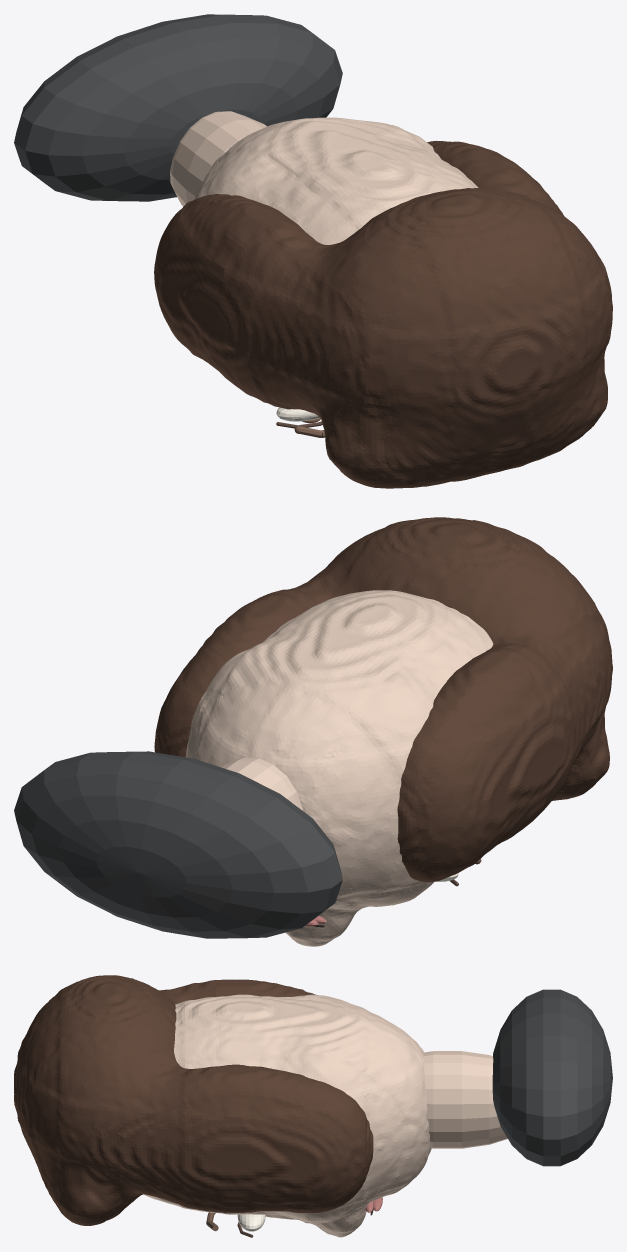
Rendered from sandra_dee_reconstruction_v3.glb.
3 renders of one model, top to bottom at view 1: azimuth 30°, elevation 25°; view 2: azimuth 150°, elevation 25°; view 3: azimuth 270°, elevation 25°, orthographic. The views are drawn at different scales.
Parts seen in each view (by area): view 1: Unified swept-back chestnut coiffure, Shoulder and upper torso, Unified sculpted face, Neck; view 2: Unified swept-back chestnut coiffure, Unified sculpted face, Shoulder and upper torso, Neck; view 3: Unified swept-back chestnut coiffure, Unified sculpted face, Shoulder and upper torso, Neck, Eye white 1.
Boxes of the visible parts, bbox=[...] form: Unified swept-back chestnut coiffure: bbox=[154, 140, 612, 488]; Shoulder and upper torso: bbox=[14, 14, 342, 201]; Unified sculpted face: bbox=[194, 117, 478, 414]; Neck: bbox=[170, 111, 266, 206]; Unified swept-back chestnut coiffure: bbox=[154, 517, 612, 882]; Unified sculpted face: bbox=[185, 590, 493, 946]; Shoulder and upper torso: bbox=[14, 751, 342, 938]; Neck: bbox=[221, 757, 303, 810]; Unified swept-back chestnut coiffure: bbox=[14, 975, 373, 1225]; Unified sculpted face: bbox=[143, 994, 431, 1237]; Shoulder and upper torso: bbox=[492, 989, 612, 1166]; Neck: bbox=[423, 1051, 507, 1148]; Eye white 1: bbox=[237, 1214, 265, 1231].
Bounding box in the file's own units: 1.71 × 1.51 × 3.33.
